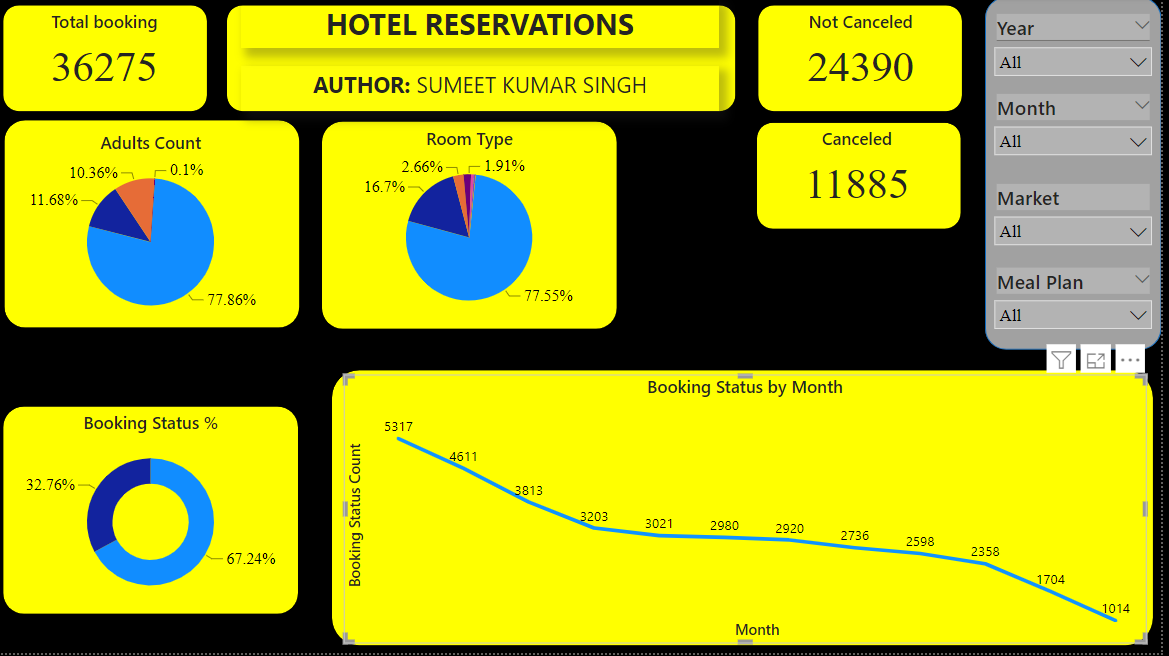

This screenshot's page, from the dashboard's own definition file:
{"tool":"powerbi","page":{"name":"Page 5","canvas":[1280,720],"ordinal":0},"visuals":[{"type":"shape","box":[1086.8,0,193.5,387],"z":0},{"type":"slicer","fields":{"Values":["Hotel Reservations1.market_segment_type"]},"box":[1086.8,200.3,193.5,86.4],"z":1000},{"type":"slicer","fields":{"Values":["Hotel Reservations1.arrival_month"]},"box":[1086.8,101.5,193.5,91.9],"z":2000},{"type":"slicer","fields":{"Values":["Hotel Reservations1.arrival_year"]},"box":[1086.8,13.7,193.5,83.7],"z":3000},{"type":"shape","box":[0,0,241.5,134.5],"z":4000},{"type":"slicer","fields":{"Values":["Hotel Reservations1.type_of_meal_plan"]},"box":[1086.8,292.3,193.5,91.9],"z":5000},{"type":"card","title":"Total booking","fields":{"Values":["CountNonNull(Hotel Reservations1.Booking_ID)"]},"box":[12.3,13.7,215.4,93.3],"z":6000},{"type":"shape","box":[828.3,0,241.5,134.5],"z":7000},{"type":"card","title":"Not Canceled","fields":{"Values":["CountNonNull(Hotel Reservations1.booking_status)"]},"box":[842,13.7,215.4,93.3],"z":8000},{"type":"shape","box":[827.4,129.5,241.5,134.5],"z":9000},{"type":"card","title":"Canceled","fields":{"Values":["CountNonNull(Hotel Reservations1.booking_status)"]},"box":[838.4,143.3,215.4,93.3],"z":10000},{"type":"shape","box":[-0.5,441,341.7,245.6],"z":11000},{"type":"donutChart","title":"Booking Status %","fields":{"Category":["Hotel Reservations1.booking_status"],"Y":["CountNonNull(Hotel Reservations1.booking_status)"]},"box":[11.8,453.7,317,219.6],"z":12000},{"type":"shape","box":[360.9,400.7,919.4,319.7],"z":13000},{"type":"lineChart","title":"Booking Status  by Month","fields":{"Category":["Hotel Reservations1.arrival_month"],"Y":["CountNonNull(Hotel Reservations1.booking_status)"]},"box":[382.8,414.4,881,295],"z":14000},{"type":"shape","box":[350.2,127.3,341.7,245.6],"z":15000},{"type":"shape","box":[1.4,126.2,341.7,245.6],"z":16000},{"type":"pieChart","title":"Adults Count","fields":{"Y":["Sum(Hotel Reservations1.no_of_adults)"],"Category":["Hotel Reservations1.no_of_adults"]},"box":[12.3,146.6,317,219.6],"z":17000},{"type":"pieChart","title":"Room Type","fields":{"Category":["Hotel Reservations1.room_type_reserved"],"Y":["CountNonNull(Hotel Reservations1.room_type_reserved)"]},"box":[361.2,142.4,319.7,218.2],"z":18000},{"type":"shape","box":[245.6,0,576.3,134.5],"z":19000},{"type":"textbox","box":[270.3,2.7,524.2,53.5],"z":20000},{"type":"textbox","box":[270.3,75.5,524.2,49.4],"z":21000}]}

Visuals, with their boxes in screenshot pixels (x1, y1, x2, y2), scaled from the page's 1280x720 canvas onto the 1169x656 screenshot:
shape: 993 0 1168 353
slicer - Hotel Reservations1.market_segment_type: 993 182 1168 261
slicer - Hotel Reservations1.arrival_month: 993 92 1168 176
slicer - Hotel Reservations1.arrival_year: 993 12 1168 89
shape: 0 0 221 123
slicer - Hotel Reservations1.type_of_meal_plan: 993 266 1168 350
"Total booking" card: 11 12 208 97
shape: 756 0 977 123
"Not Canceled" card: 769 12 966 97
shape: 756 118 976 241
"Canceled" card: 766 131 962 216
shape: 0 402 312 626
"Booking Status %" donutChart: 11 413 300 613
shape: 330 365 1168 655
"Booking Status  by Month" lineChart: 350 378 1154 646
shape: 320 116 632 340
shape: 1 115 313 339
"Adults Count" pieChart: 11 134 301 334
"Room Type" pieChart: 330 130 622 329
shape: 224 0 751 123
textbox: 247 2 726 51
textbox: 247 69 726 114
